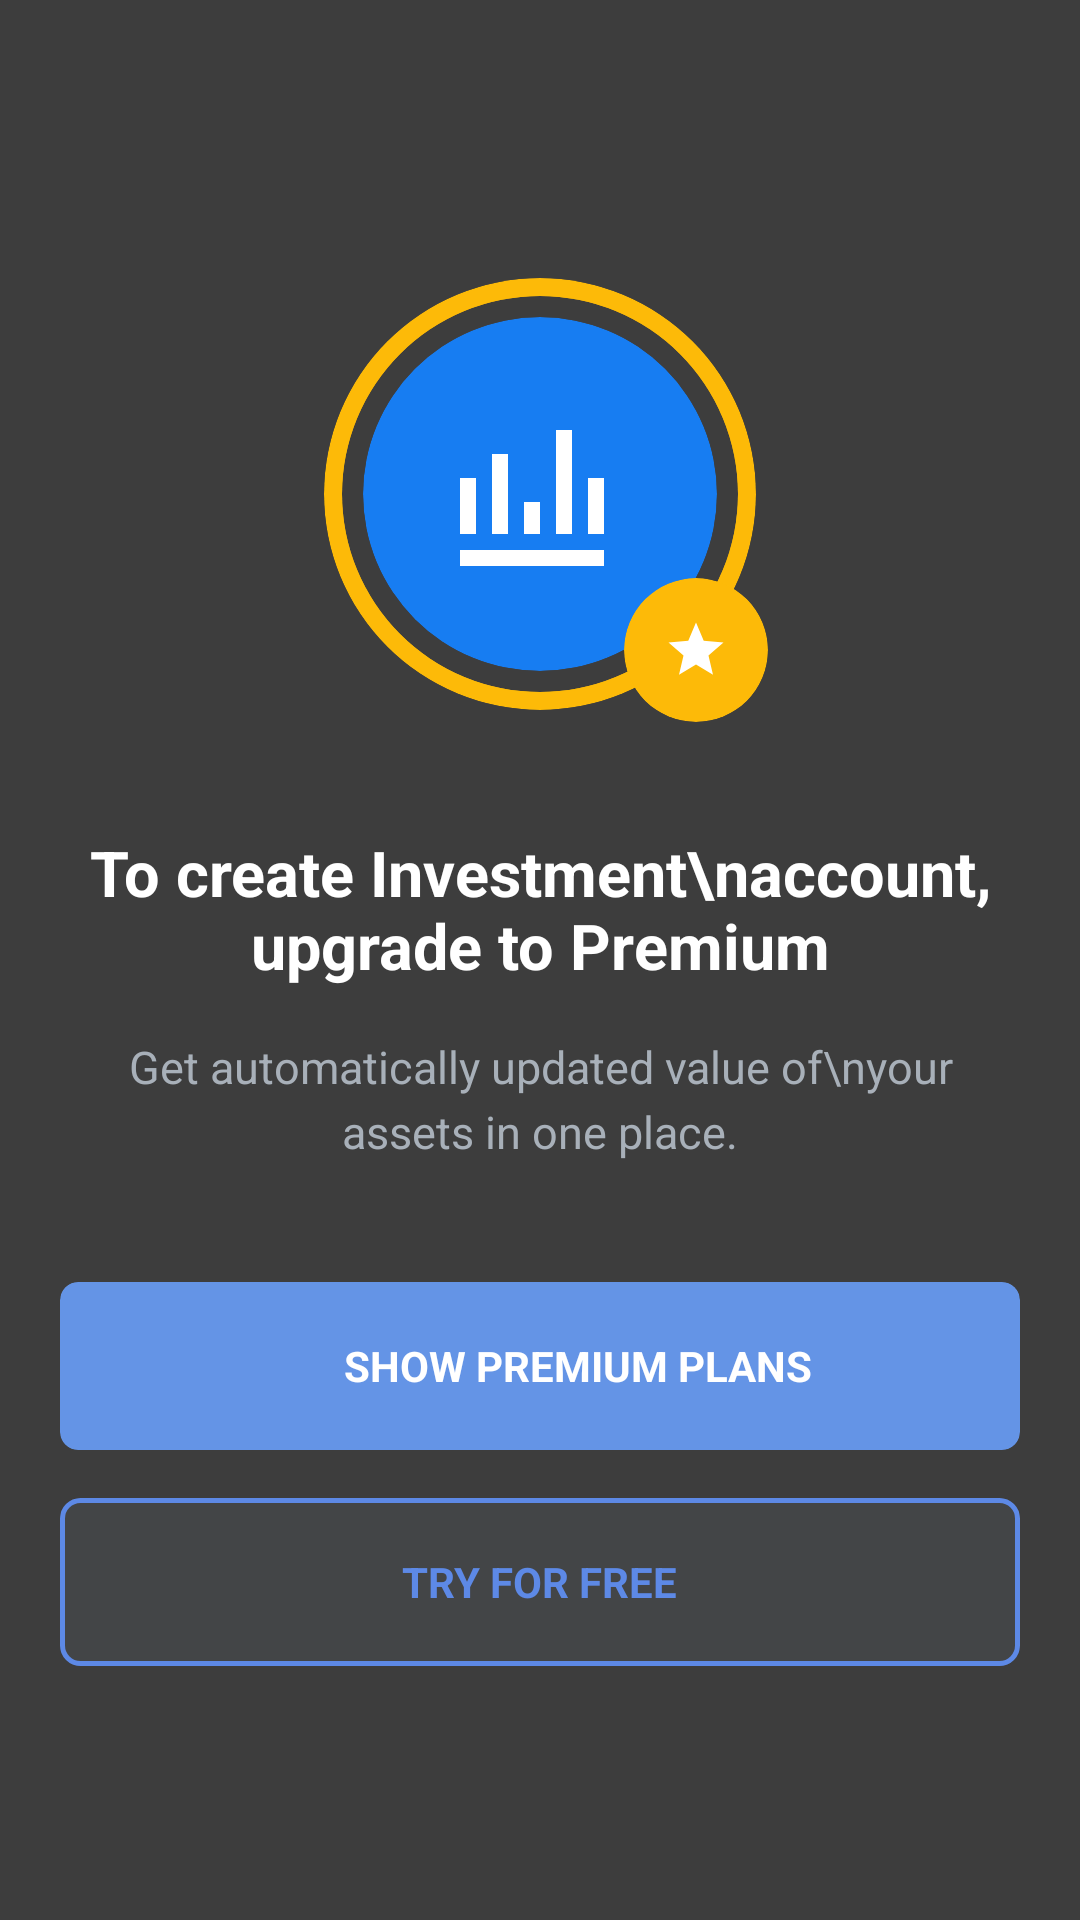

Where icons sit on this 1080*1920 app screen, as {"left": x1, "top": y1, "right": x2, "bottom": y2}:
investments: {"left": 460, "top": 430, "right": 604, "bottom": 566}
star: {"left": 668, "top": 623, "right": 724, "bottom": 675}
